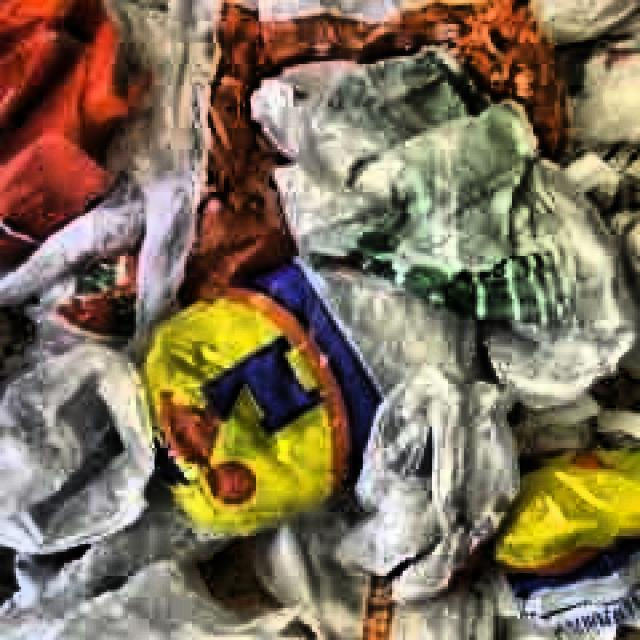Plastic: (111, 238, 542, 587)
